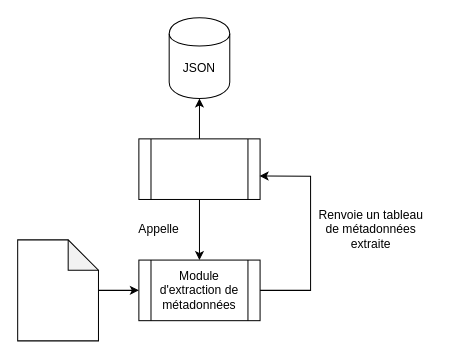
The diagram is 449 pixels wide and 359 high, and some of its shapes have lost their labels. The shapes that lost their labels are listed below. From the top down, each one's centre as x and y in pixels, then its label:
At (x=199, y=168): "Module d'ajout de métadonnées".
At (x=57, y=290): "Texte brut".
